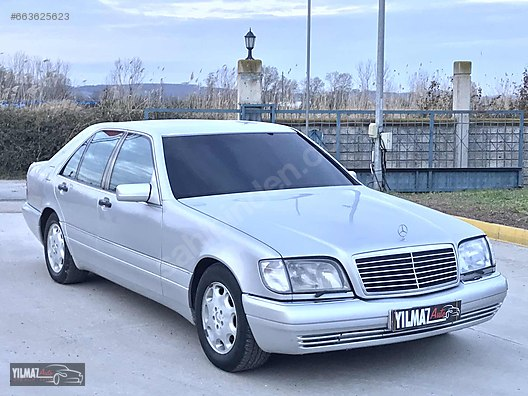mercedes: (13, 107, 514, 376)
